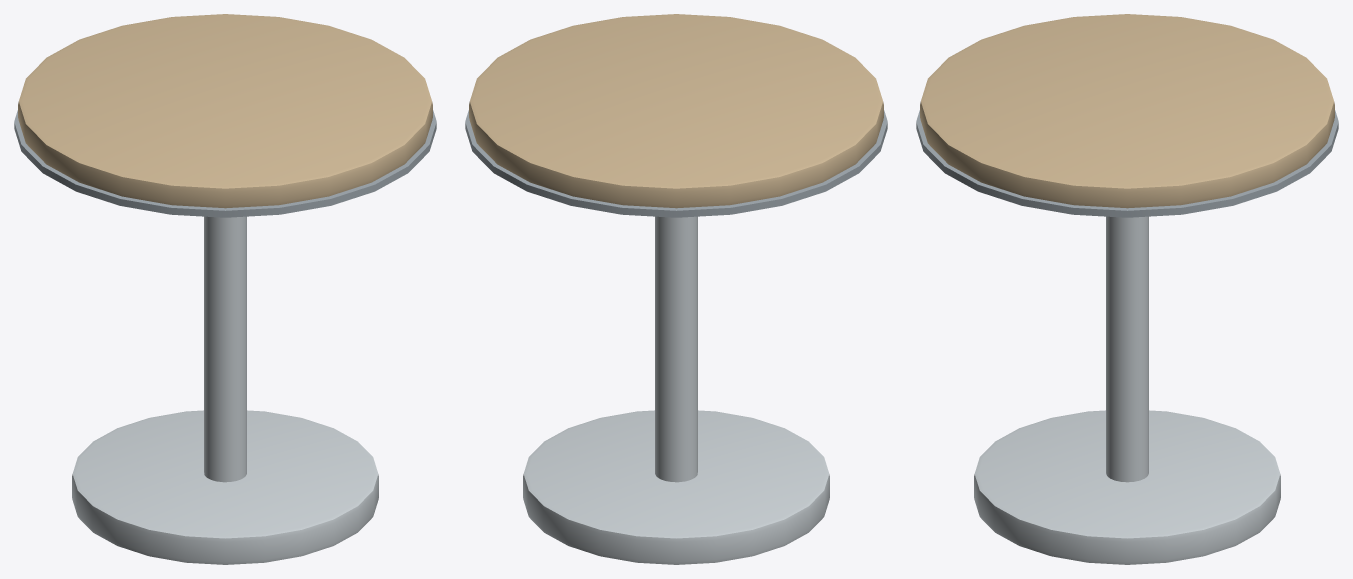
The model's file is round_side_table.fbx.
3 views of the same model, side by side, from view 1: azimuth 30°, elevation 25°; view 2: azimuth 150°, elevation 25°; view 3: azimuth 270°, elevation 25° (orthographic).
Parts seen in each view (by area): view 1: EQ_round_side_table_M_Oak, EQ_round_side_table_M_Chrome, EQ_round_side_table_M_SteelBrushed; view 2: EQ_round_side_table_M_Oak, EQ_round_side_table_M_Chrome, EQ_round_side_table_M_SteelBrushed; view 3: EQ_round_side_table_M_Oak, EQ_round_side_table_M_Chrome, EQ_round_side_table_M_SteelBrushed.
Boxes of the visible parts, bbox=[...] form: EQ_round_side_table_M_Oak: bbox=[18, 14, 432, 208]; EQ_round_side_table_M_Chrome: bbox=[72, 216, 378, 564]; EQ_round_side_table_M_SteelBrushed: bbox=[14, 110, 436, 217]; EQ_round_side_table_M_Oak: bbox=[469, 14, 883, 208]; EQ_round_side_table_M_Chrome: bbox=[523, 216, 829, 564]; EQ_round_side_table_M_SteelBrushed: bbox=[465, 110, 887, 217]; EQ_round_side_table_M_Oak: bbox=[920, 14, 1334, 208]; EQ_round_side_table_M_Chrome: bbox=[974, 216, 1280, 564]; EQ_round_side_table_M_SteelBrushed: bbox=[916, 110, 1338, 217].
Bounding box in the file's own units: 0.55 × 0.575 × 0.55.
